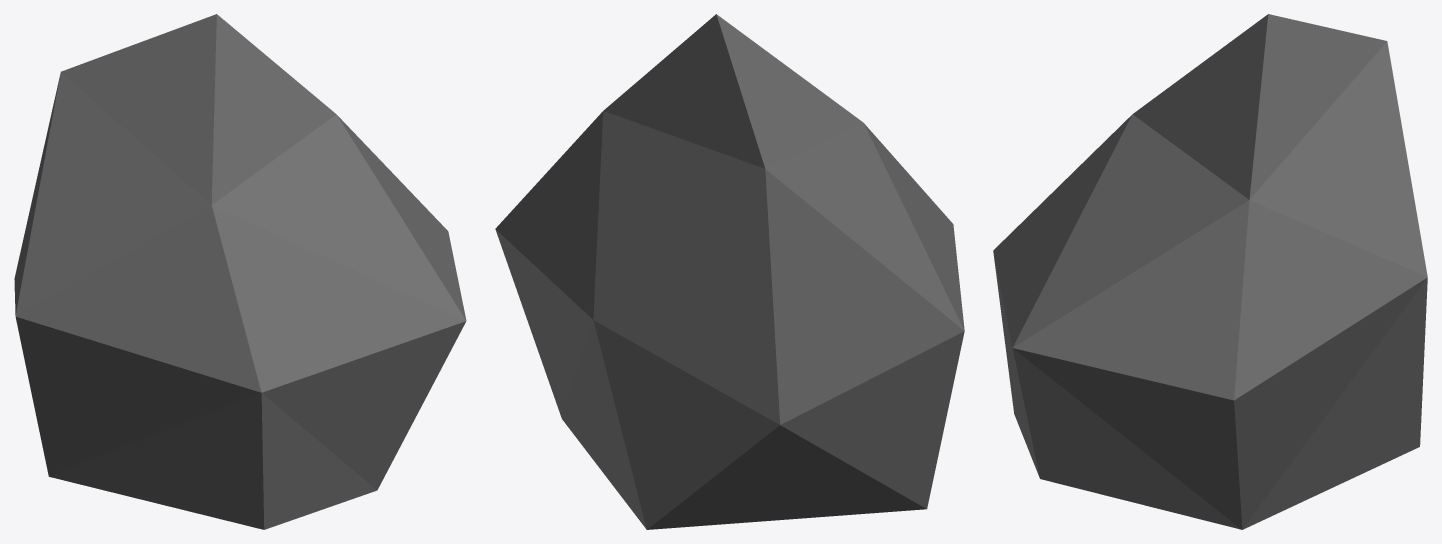
The model's file is Rock_1_15.fbx.
3 views of the same model, side by side, from view 1: azimuth 30°, elevation 25°; view 2: azimuth 150°, elevation 25°; view 3: azimuth 270°, elevation 25° (orthographic). The views are drawn at different scales.
Parts seen in each view (by area): view 1: Rock_1_15; view 2: Rock_1_15; view 3: Rock_1_15.
Part boxes in pixels (bbox=[...]): Rock_1_15: bbox=[14, 14, 466, 529]; Rock_1_15: bbox=[495, 14, 964, 529]; Rock_1_15: bbox=[993, 14, 1427, 529].
Bounding box in the file's own units: 64.34 × 59.03 × 53.17.
